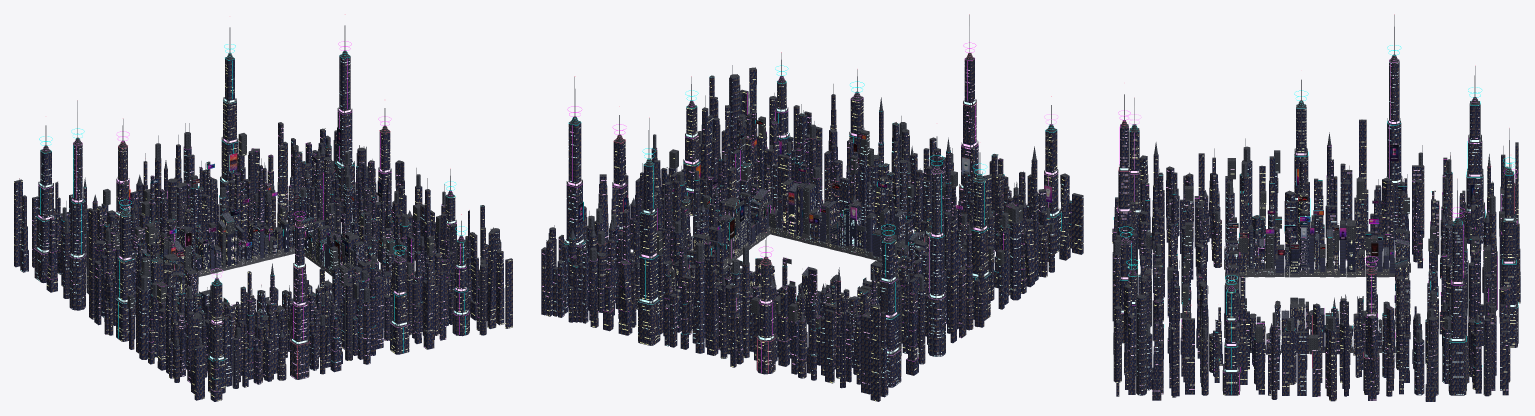
The model's file is HEX_Cyberpunk_City_B.fbx.
The picture shows the model from 3 angles, left to right: view 1: azimuth 30°, elevation 25°; view 2: azimuth 150°, elevation 25°; view 3: azimuth 270°, elevation 25°; orthographic projection. The views are drawn at different scales.
Parts seen in each view (by area): view 1: B_Sky_W2_S3_far__TWN, B_Sky_E3_S3_far__TWN, B_Sky_W3_S3_far__TWN, B_Sky_E2_S3_far__TWN, B_Sky_E2_N2_near__TWN, B_Sky_W3_S2_far__TWN, B_Mega_06__TWN, B_Mega_09__TWN, B_Sky_E0_S3_far__TWN, B_Sky_W3_S1_far__TWN, B_Mega_05__TWN, B_Mega_02__TWN (+37 smaller); view 2: B_Sky_E3_N3_far__TWN, B_Sky_E0_N3_far__TWN, B_Sky_W2_N3_far__TWN, B_Sky_E2_N3_far__TWN, B_Mega_03__TWN, B_Sky_W1_N3_far__TWN, B_Sky_W3_S3_far__TWN, B_Sky_W3_N3_far__TWN, B_Mega_06__TWN, B_Sky_W3_S2_far__TWN, B_Sky_E1_N3_far__TWN, B_Sky_W3_S1_far__TWN (+46 smaller); view 3: B_Sky_E3_S3_far__TWN, B_Sky_E3_N3_far__TWN, B_Sky_E3_N0_far__TWN, B_Mega_02__TWN, B_Sky_E3_S1_far__TWN, B_Sky_E3_N2_far__TWN, B_Sky_E3_S2_far__TWN, B_Sky_W3_N1_far__TWN, B_Mega_03__TWN, B_Mega_06__TWN, B_Sky_W3_S2_far__TWN, B_Sky_E3_N1_far__TWN (+49 smaller).
Part boxes in pixels (<box>): B_Sky_W2_S3_far__TWN: <box>229,288,286,387</box>; B_Sky_E3_S3_far__TWN: <box>447,206,504,330</box>; B_Sky_W3_S3_far__TWN: <box>174,296,238,400</box>; B_Sky_E2_S3_far__TWN: <box>406,252,448,343</box>; B_Sky_E2_N2_near__TWN: <box>271,146,331,236</box>; B_Sky_W3_S2_far__TWN: <box>148,287,201,378</box>; B_Mega_06__TWN: <box>69,144,85,310</box>; B_Mega_09__TWN: <box>290,226,308,379</box>; B_Sky_E0_S3_far__TWN: <box>314,282,364,363</box>; B_Sky_W3_S1_far__TWN: <box>129,260,171,359</box>; B_Mega_05__TWN: <box>34,151,57,282</box>; B_Mega_02__TWN: <box>335,56,354,217</box>; B_Sky_E3_N3_far__TWN: <box>541,229,606,323</box>; B_Sky_E0_N3_far__TWN: <box>692,256,736,358</box>; B_Sky_W2_N3_far__TWN: <box>791,281,846,383</box>; B_Sky_E2_N3_far__TWN: <box>590,211,636,335</box>; B_Mega_03__TWN: <box>638,164,660,345</box>; B_Sky_W1_N3_far__TWN: <box>736,264,796,366</box>; B_Sky_W3_S3_far__TWN: <box>1019,160,1083,272</box>; B_Sky_W3_N3_far__TWN: <box>840,300,888,397</box>; B_Mega_06__TWN: <box>928,172,945,356</box>; B_Sky_W3_S2_far__TWN: <box>994,193,1047,293</box>; B_Sky_E1_N3_far__TWN: <box>658,254,691,349</box>; B_Sky_W3_S1_far__TWN: <box>987,216,1020,309</box>; B_Sky_E3_S3_far__TWN: <box>1124,278,1179,397</box>; B_Sky_E3_N3_far__TWN: <box>1464,305,1510,396</box>; B_Sky_E3_N0_far__TWN: <box>1285,305,1349,396</box>; B_Mega_02__TWN: <box>1449,225,1466,395</box>; B_Sky_E3_S1_far__TWN: <box>1238,276,1289,395</box>; B_Sky_E3_N2_far__TWN: <box>1399,319,1450,395</box>; B_Sky_E3_S2_far__TWN: <box>1182,285,1225,395</box>; B_Sky_W3_N1_far__TWN: <box>1340,120,1391,250</box>; B_Mega_03__TWN: <box>1502,175,1517,347</box>; B_Mega_06__TWN: <box>1387,62,1400,239</box>; B_Sky_W3_S2_far__TWN: <box>1183,154,1233,249</box>; B_Sky_E3_N1_far__TWN: <box>1342,295,1394,396</box>.
Size of the model in its own units: 291938 by 185109 by 297840.
